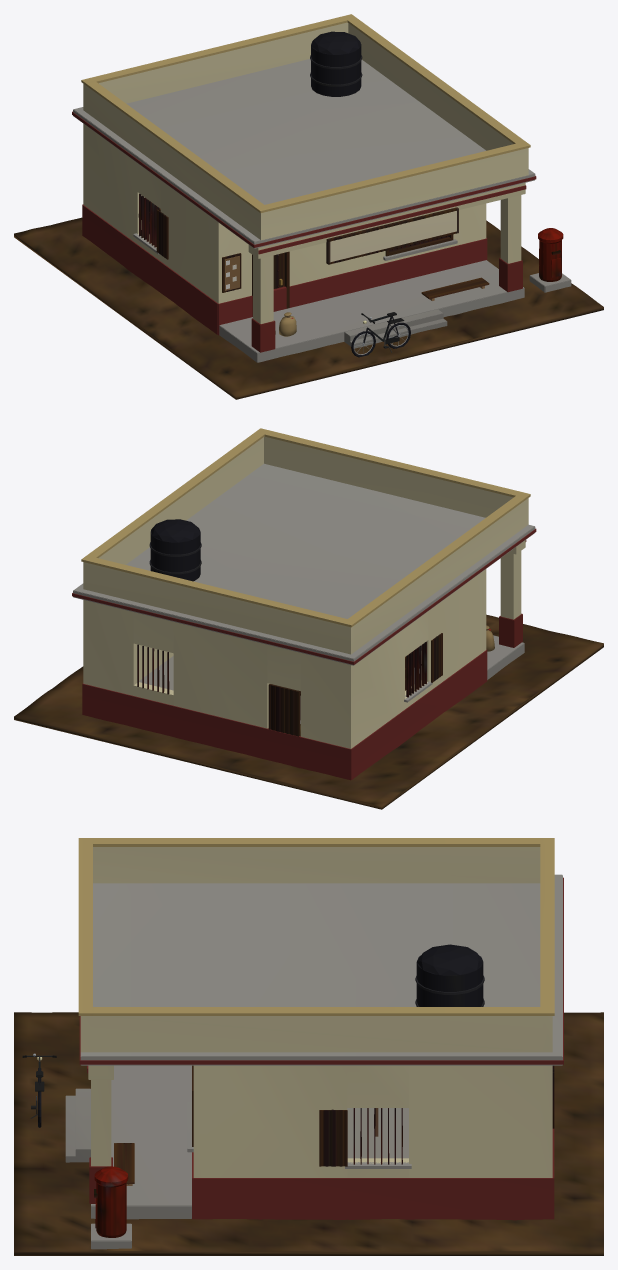
Rendered from post_office_v2.glb.
3 views of the same model, one above another, from view 1: azimuth 30°, elevation 25°; view 2: azimuth 150°, elevation 25°; view 3: azimuth 270°, elevation 25° (orthographic). The views are drawn at different scales.
Visible parts, largest first — view 1: hb_main, hb_props, hb_metal; view 2: hb_main, hb_props, hb_metal; view 3: hb_main, hb_metal, hb_props.
Boxes of the visible parts, x1,y1,x2,y2 form: hb_main: (14, 14, 603, 399); hb_props: (146, 199, 489, 316); hb_metal: (138, 193, 563, 287); hb_main: (14, 428, 603, 809); hb_props: (268, 633, 442, 736); hb_metal: (137, 642, 426, 697); hb_main: (14, 838, 603, 1255); hb_metal: (94, 1065, 554, 1237); hb_props: (114, 1065, 378, 1185).
Size of the model in its own units: 11 by 5.1 by 11.5.
